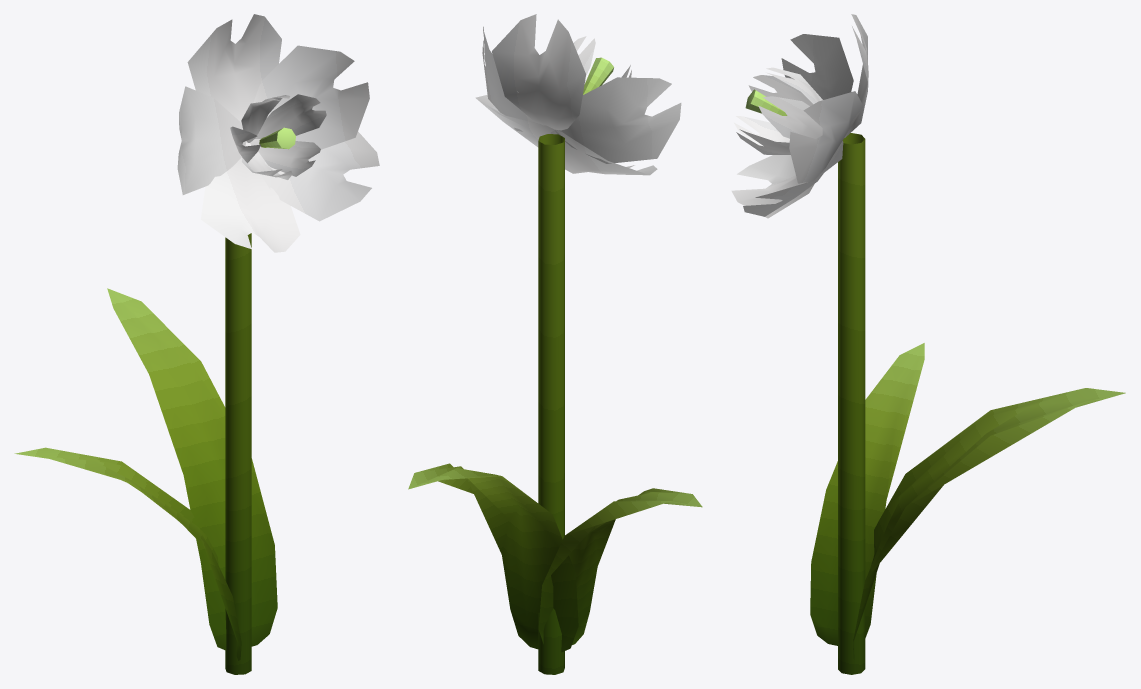
The model's file is SM_GibraltarChampion.fbx.
3 views of the same model, side by side, from view 1: azimuth 30°, elevation 25°; view 2: azimuth 150°, elevation 25°; view 3: azimuth 270°, elevation 25° (orthographic).
Parts seen in each view (by area): view 1: SM_GibraltarChampion; view 2: SM_GibraltarChampion; view 3: SM_GibraltarChampion.
Boxes of the visible parts, left/top/right/bottom form: SM_GibraltarChampion: left=14, top=14, right=379, bottom=674; SM_GibraltarChampion: left=408, top=14, right=702, bottom=674; SM_GibraltarChampion: left=731, top=14, right=1125, bottom=674.
Bounding box in the file's own units: 82.17 × 178 × 97.61.
Materials: 1 (1 with a texture image).
